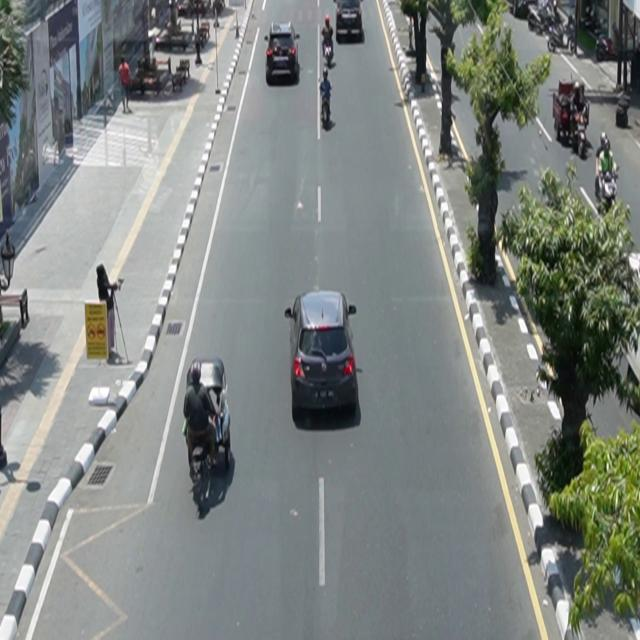car: (285, 290, 359, 417), (184, 357, 232, 475), (265, 21, 301, 86), (336, 1, 364, 43)
